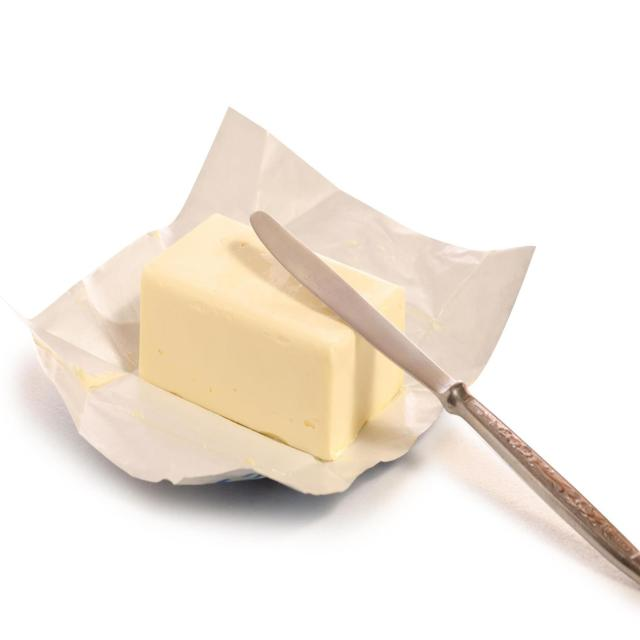Butter: (138, 207, 411, 463)
